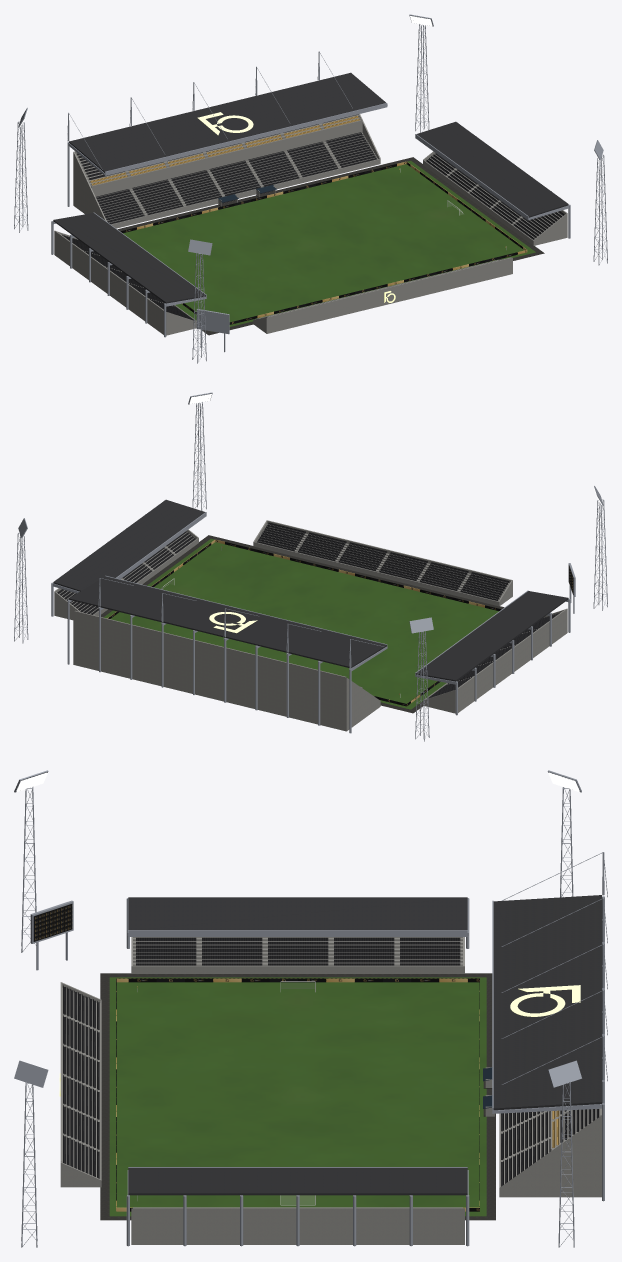
Rendered from terrain_L3.glb.
3 renders of one model, top to bottom at view 1: azimuth 30°, elevation 25°; view 2: azimuth 150°, elevation 25°; view 3: azimuth 270°, elevation 25°, orthographic. The views are drawn at different scales.
Visible parts, largest first — view 1: pitch_L3_L3, concrete_L3, roof_L3, seats_L3, steel_L3, boards_L3, concrete_dark_L3, seats_accent_L3, emissive_led_L3; view 2: concrete_L3, pitch_L3_L3, roof_L3, steel_L3, seats_L3, concrete_dark_L3, boards_L3; view 3: pitch_L3_L3, roof_L3, concrete_L3, seats_L3, steel_L3, concrete_dark_L3, boards_L3, emissive_screen_L3, emissive_led_L3.
Boxes of the visible parts, x1,y1,x2,y2 form: pitch_L3_L3: (123,160,535,331); concrete_L3: (54,114,567,335); roof_L3: (53,72,568,303); seats_L3: (62,114,564,320); steel_L3: (14,14,607,363); boards_L3: (120,161,527,324); concrete_dark_L3: (117,157,544,335); seats_accent_L3: (90,115,359,185); emissive_led_L3: (197,112,395,302); concrete_L3: (54,520,567,731); pitch_L3_L3: (103,538,498,709); roof_L3: (53,499,568,681); steel_L3: (14,392,607,741); seats_L3: (57,522,559,698); concrete_dark_L3: (101,535,504,713); boards_L3: (107,539,501,706); pitch_L3_L3: (109,977,486,1216); roof_L3: (128,895,601,1195); concrete_L3: (60,937,601,1244); seats_L3: (63,937,599,1186); steel_L3: (14,770,607,1247); concrete_dark_L3: (100,973,495,1220); boards_L3: (116,978,479,1211); emissive_screen_L3: (33,904,72,941); emissive_led_L3: (59,985,580,1096).
Bounding box in the file's own units: 153 × 41.45 × 126.
16 materials, 9 textured.
